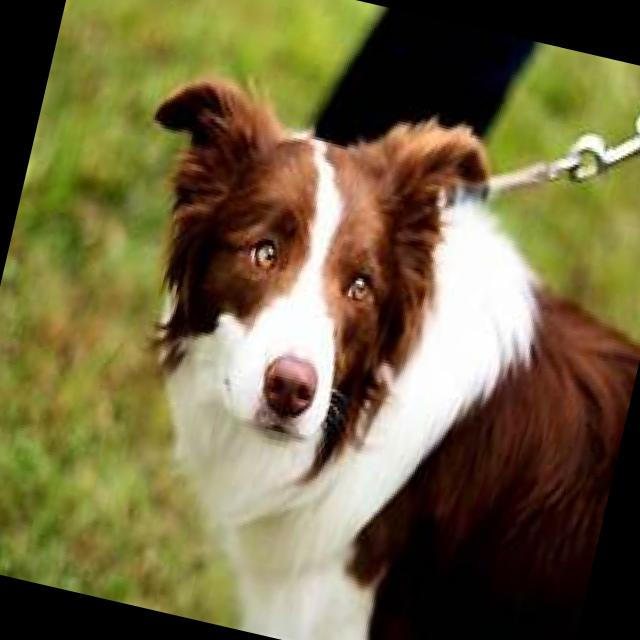dog: (45, 60, 640, 640)
